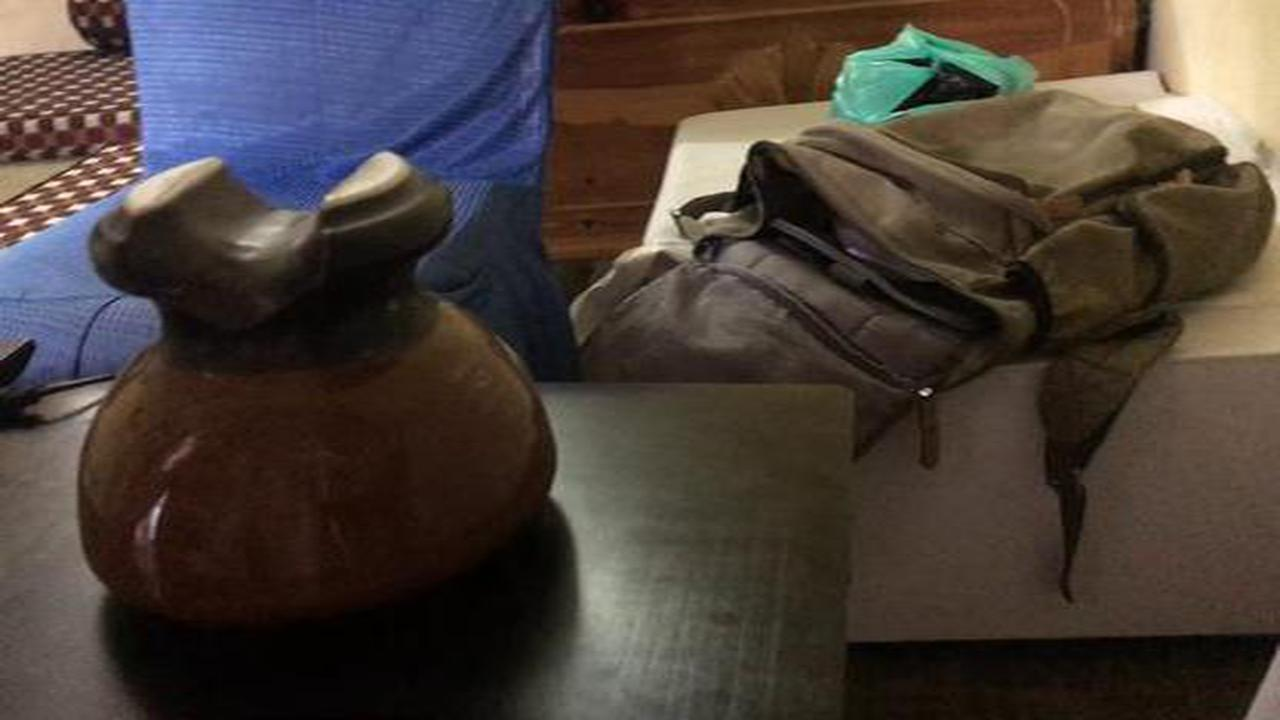insulator_pin: (50, 144, 576, 651)
